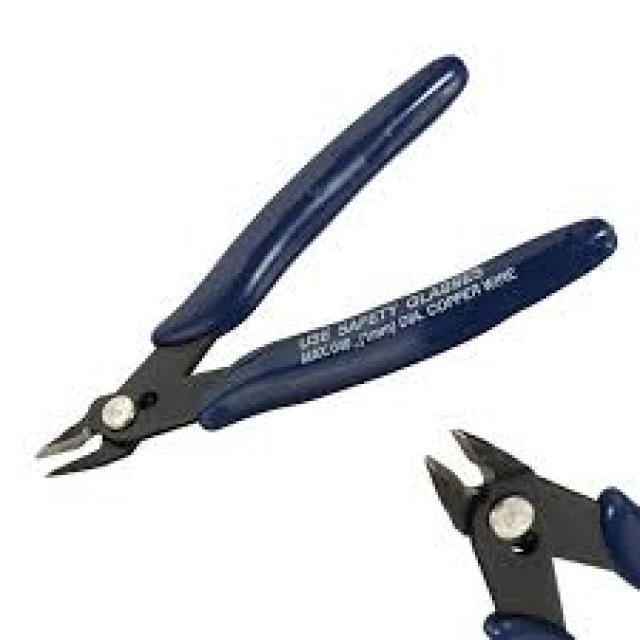pliers: (16, 46, 622, 482), (418, 421, 640, 640)
